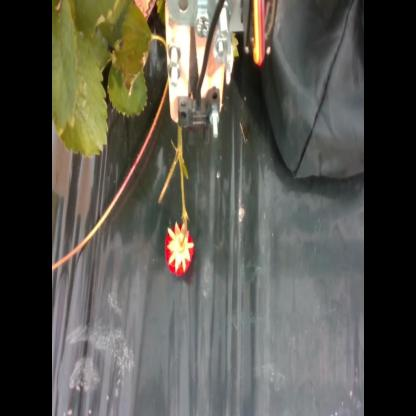ripe: (162, 223, 198, 277)
